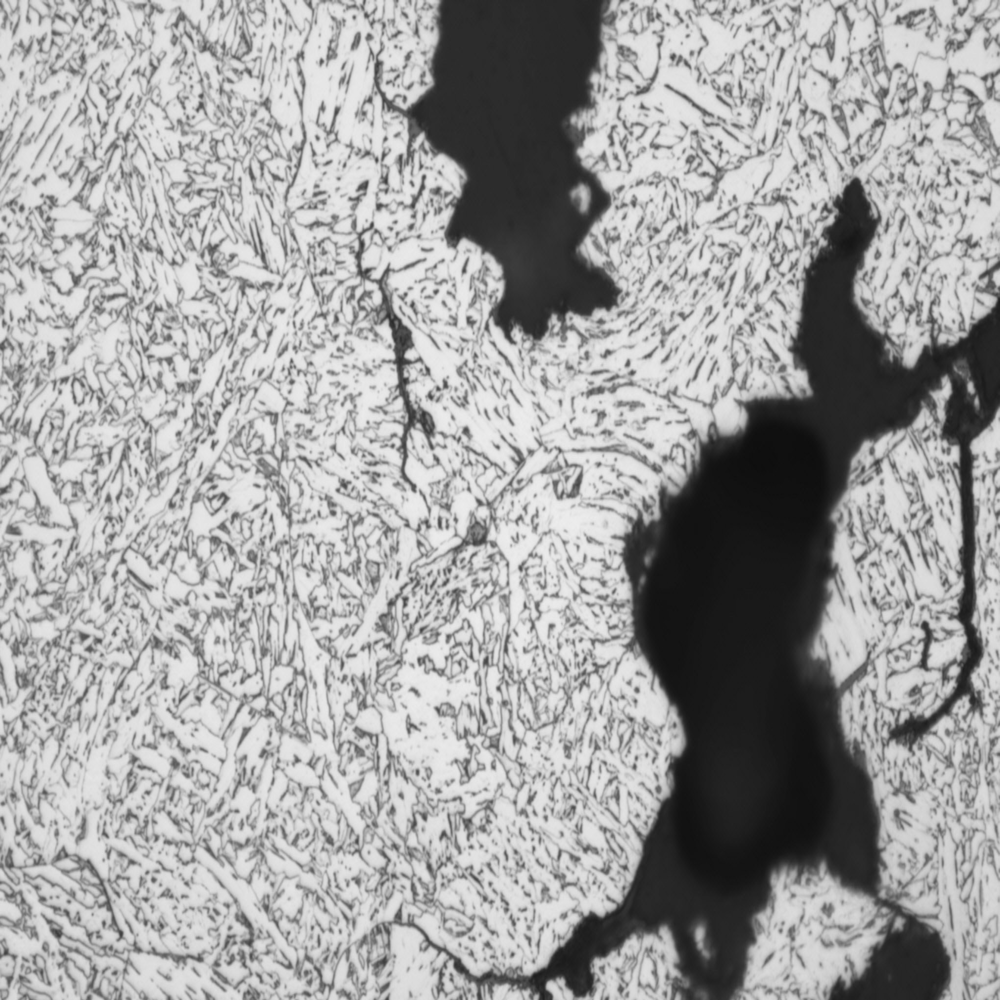crack: (576, 188, 992, 999), (445, 1, 641, 340)
